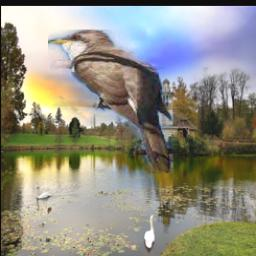Cuckoo: (48, 30, 173, 173)
